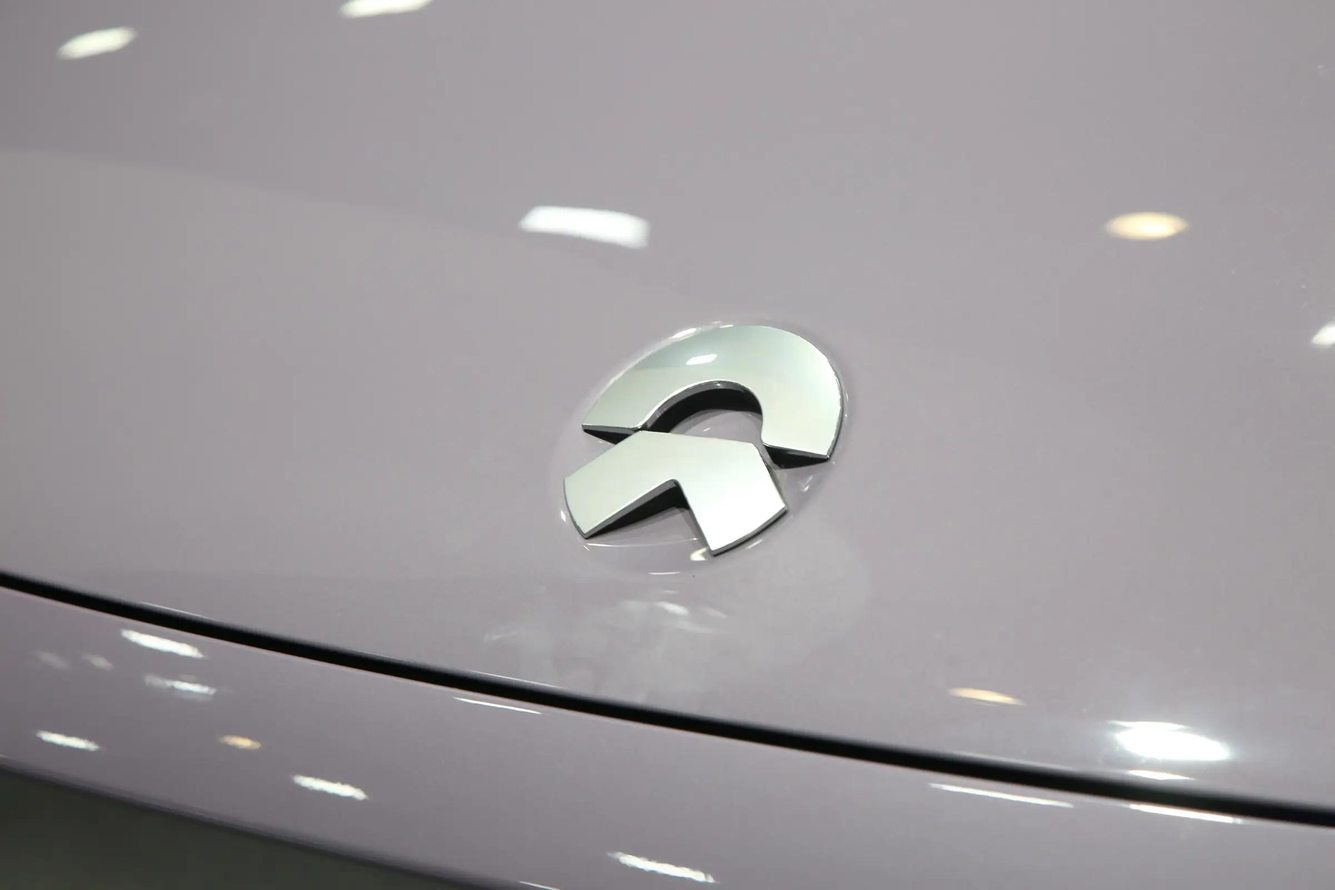NIO: (562, 323, 844, 565)
